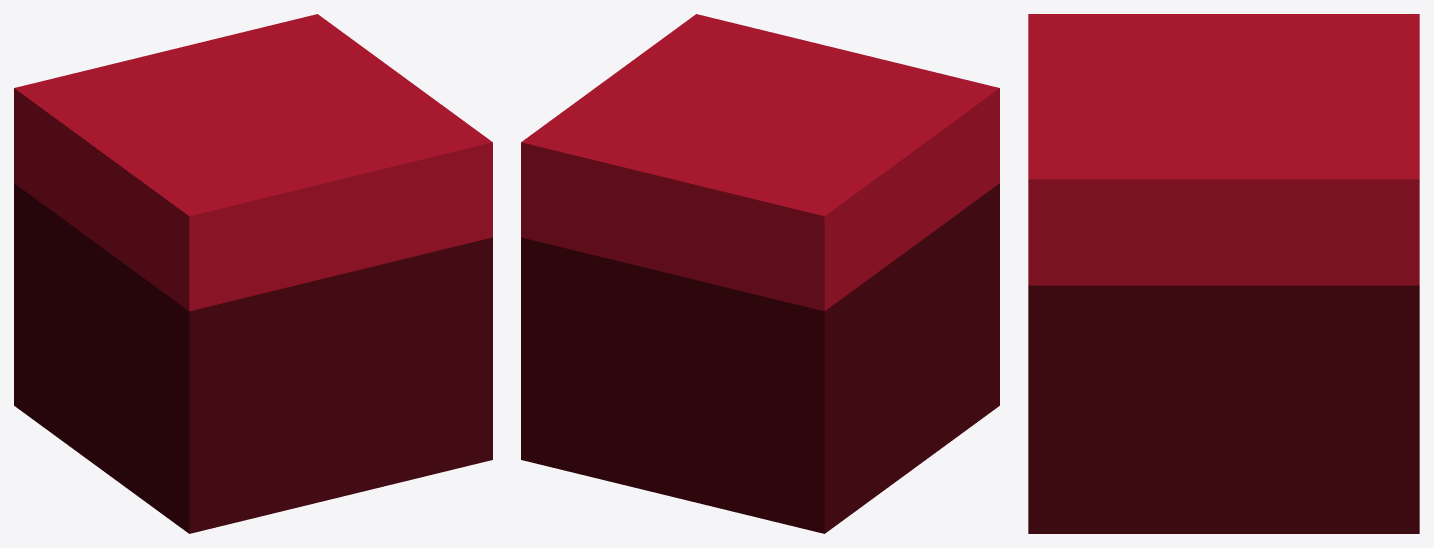
The model's file is redcube.glb.
The picture shows the model from 3 angles, left to right: view 1: azimuth 30°, elevation 25°; view 2: azimuth 150°, elevation 25°; view 3: azimuth 270°, elevation 25°; orthographic projection. The views are drawn at different scales.
Visible parts, largest first — view 1: Red_Cube; view 2: Red_Cube; view 3: Red_Cube.
Boxes of the visible parts, x1=… form: Red_Cube: x1=14, y1=14, x2=492, y2=533; Red_Cube: x1=521, y1=14, x2=999, y2=533; Red_Cube: x1=1028, y1=14, x2=1419, y2=533.
Size of the model in its own units: 2 by 2 by 2.
